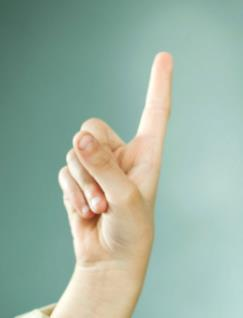up: (57, 50, 179, 272)
